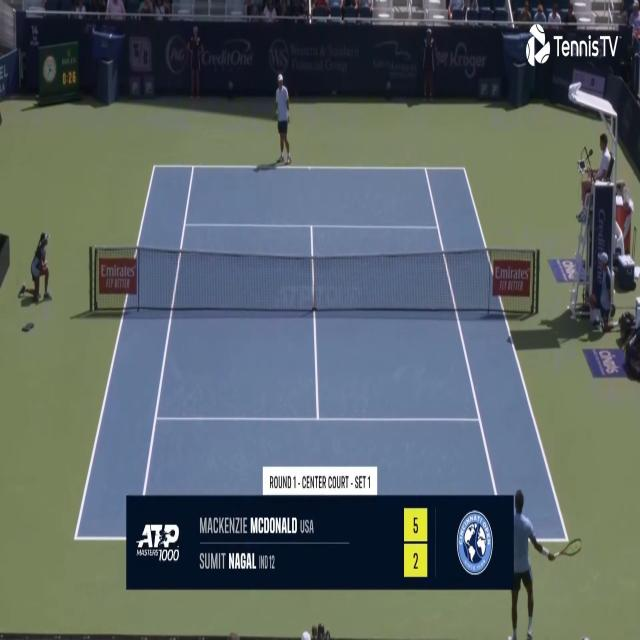tennis-player: (508, 486, 582, 639), (272, 71, 292, 168)
